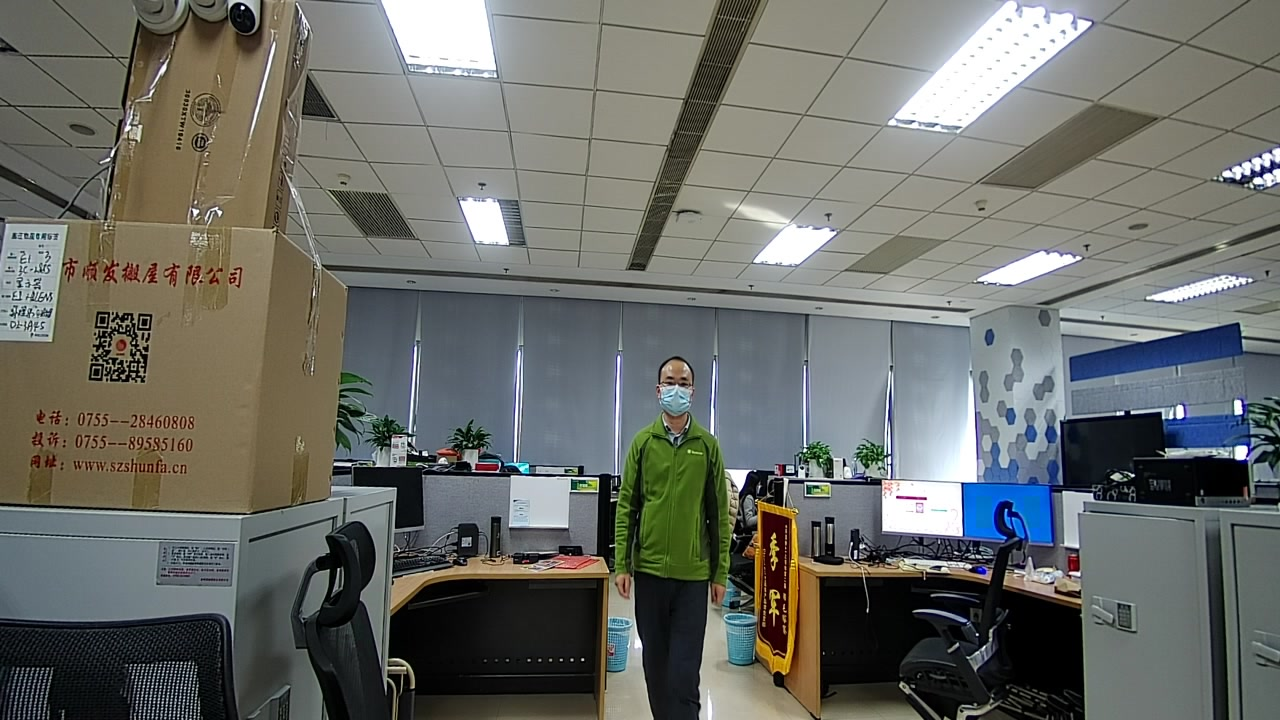face: (656, 366, 693, 416)
mask: (661, 390, 692, 416)
person: (633, 350, 718, 472), (739, 468, 763, 505)
